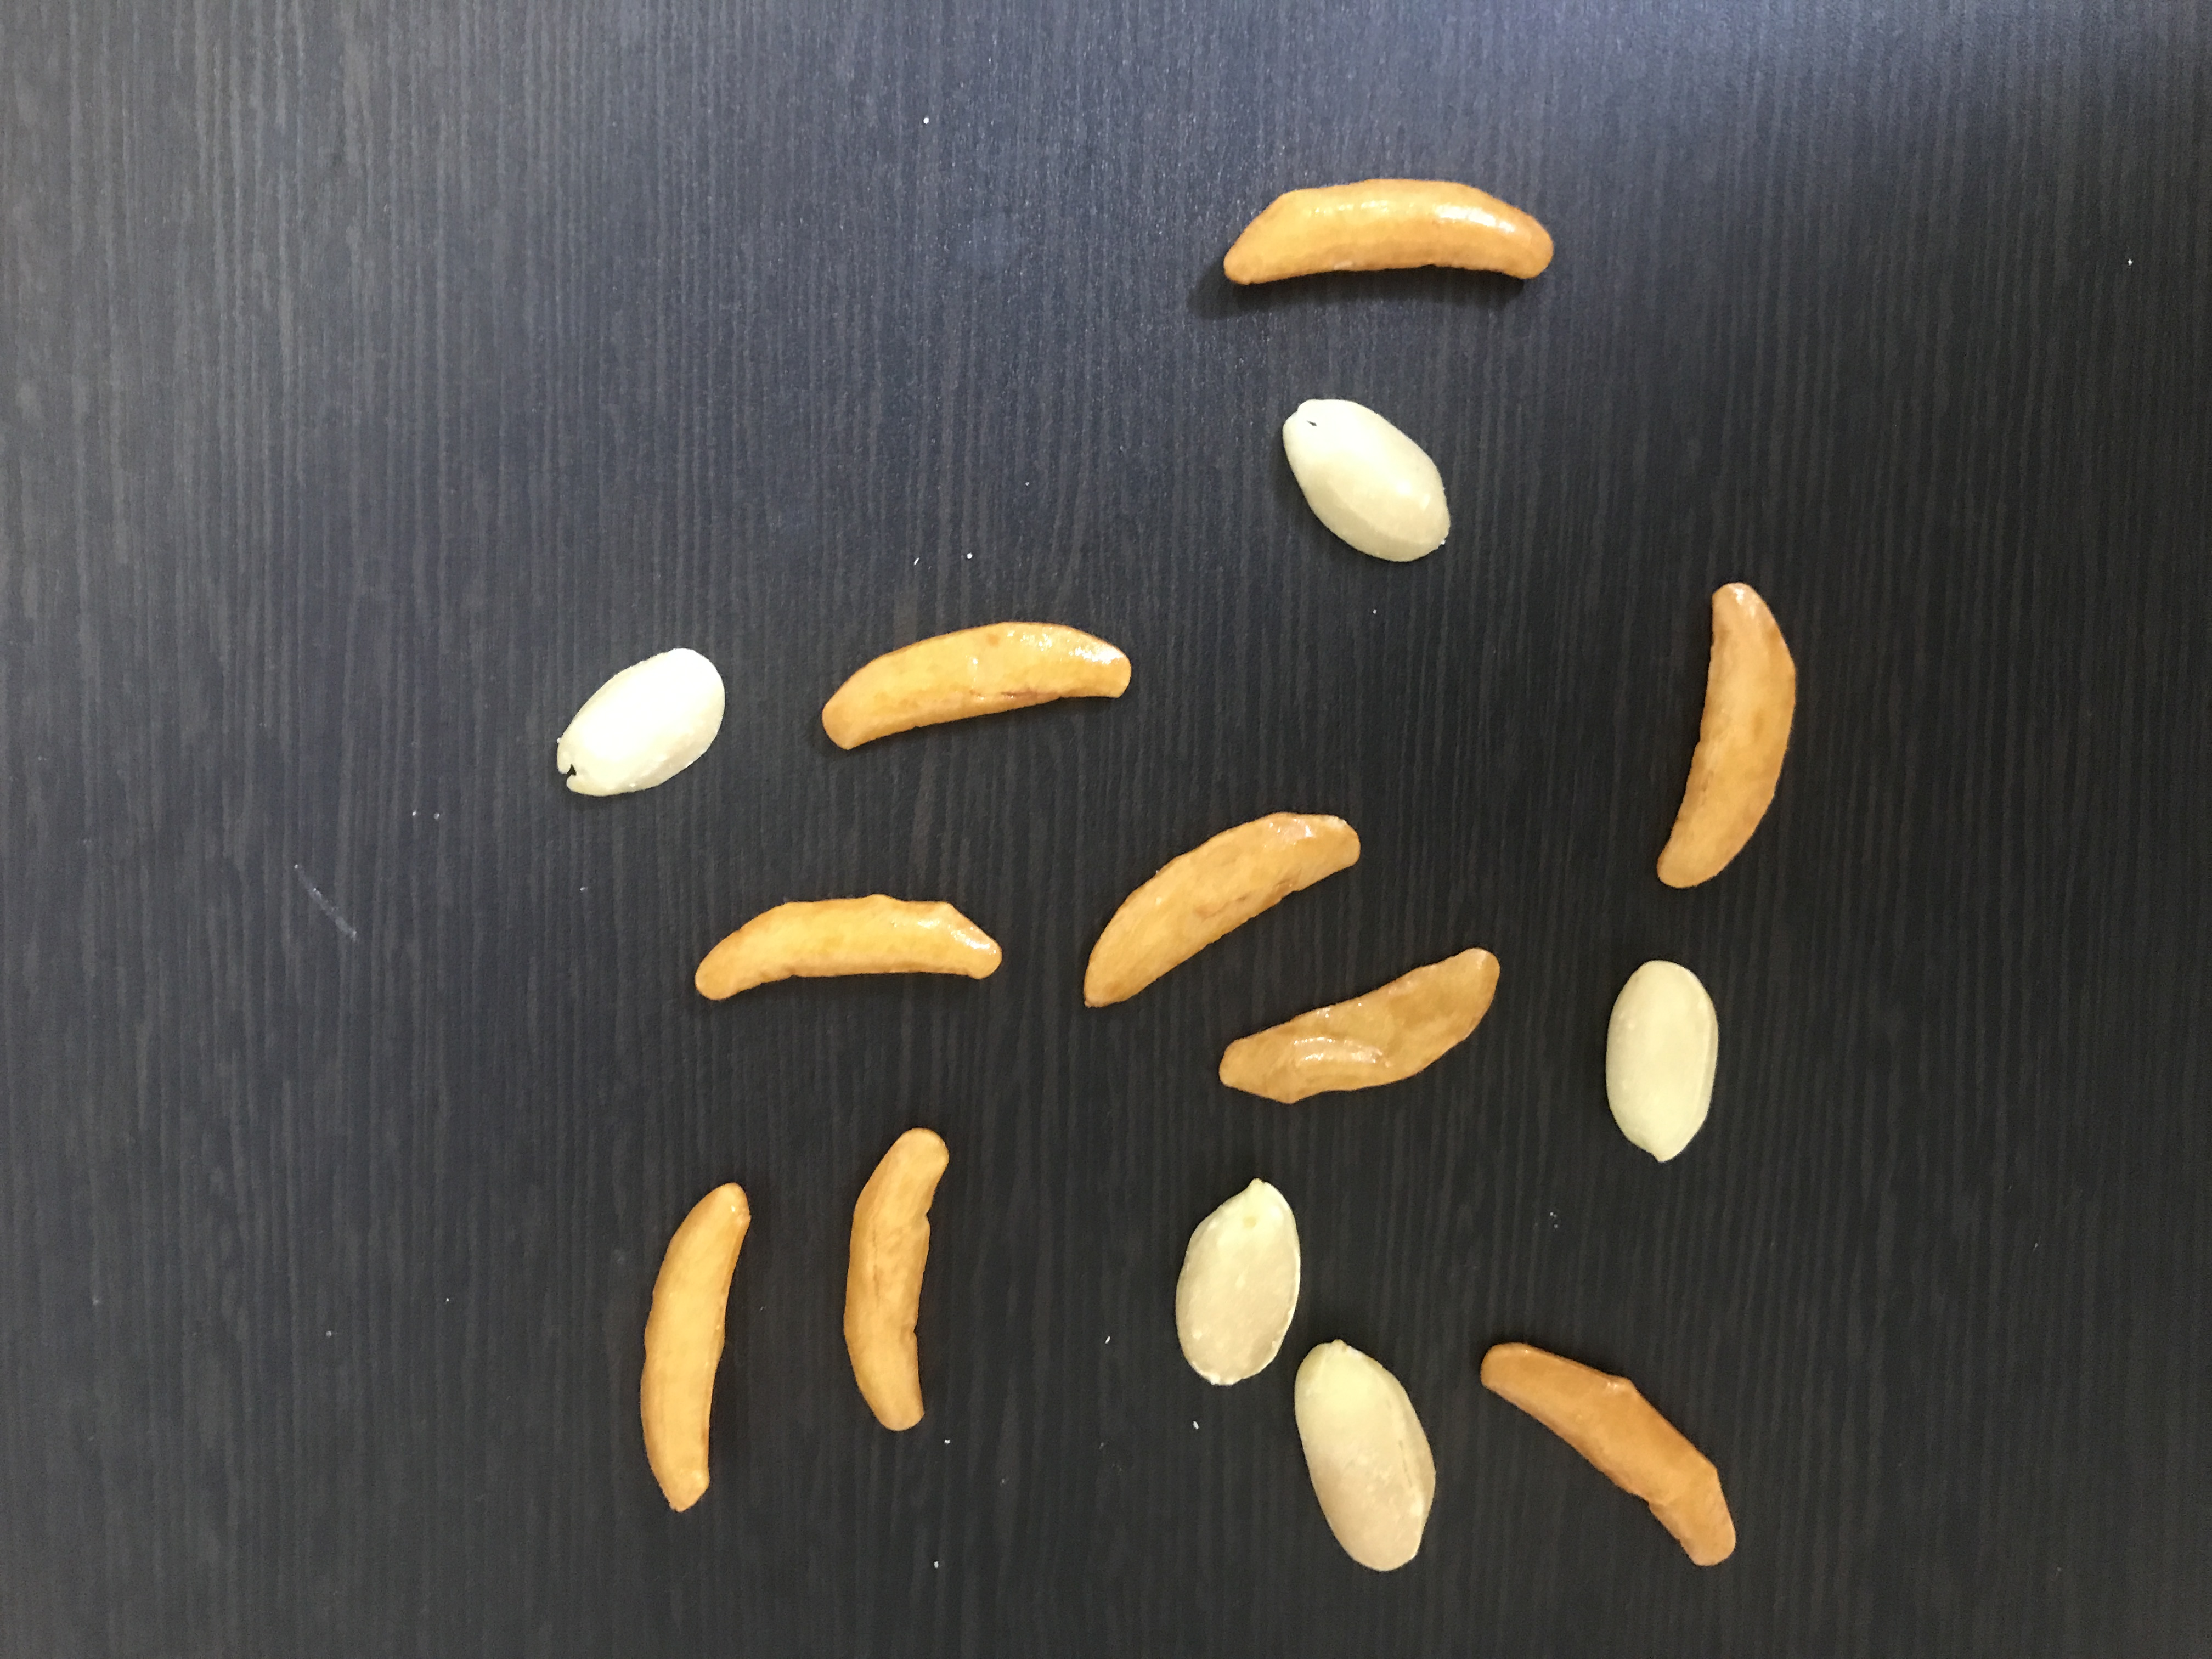peanut: (1287, 1335, 1447, 1582), (1280, 390, 1458, 565), (1597, 950, 1733, 1175), (1169, 1169, 1303, 1389), (550, 643, 728, 798)
